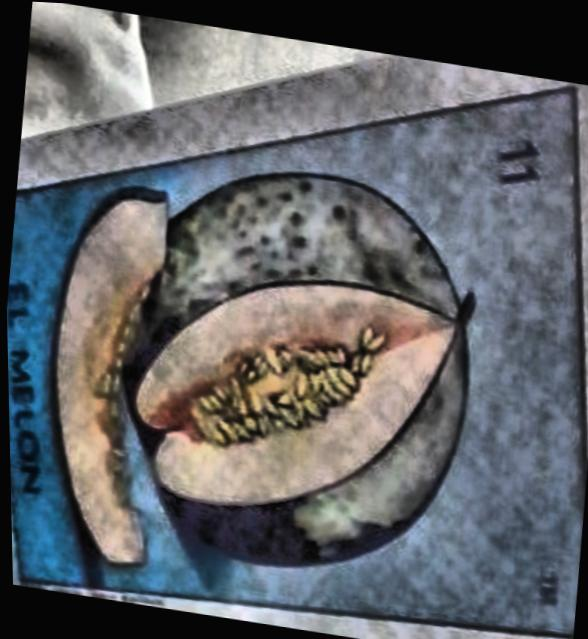El Melon: (5, 90, 584, 639)
